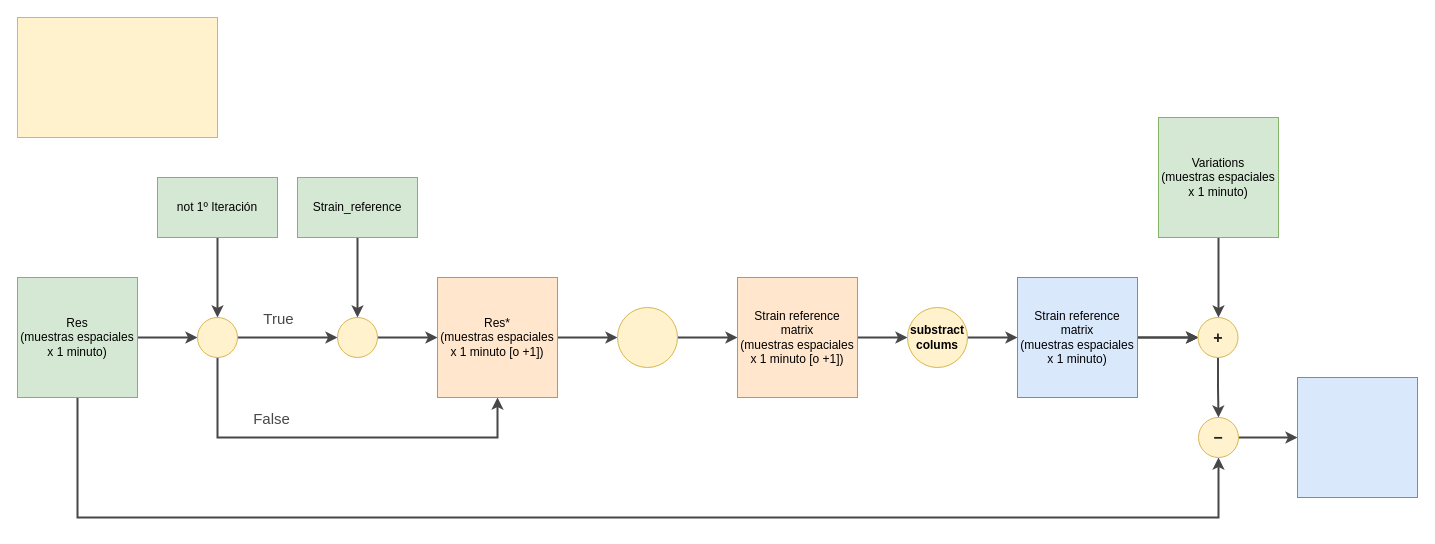
Some shapes in this 1435 by 544 pixel diagram are drawn without their labels. The centre of each missing label's shape, as x and y in pixels:
"Calculation of the cumulative corrections matrix for spureous peaks" goes at [117,77].
"cumsum (x)" goes at [647,337].
"Data (muestras espaciales x 1 minuto)" goes at [1357,437].
"hstack" goes at [357,337].
"IF" goes at [217,337].
